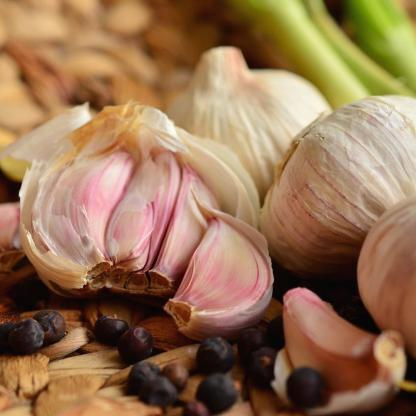garlic: (268, 86, 415, 275), (42, 138, 202, 275), (183, 63, 308, 182), (288, 284, 410, 399), (188, 220, 268, 340)
